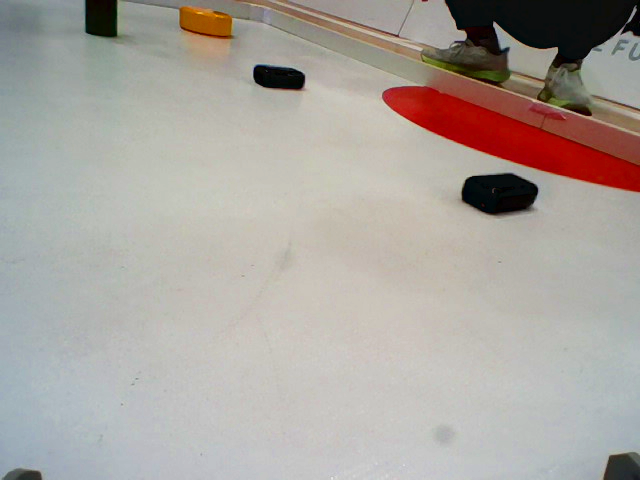black: (458, 167, 543, 220), (251, 59, 308, 92)
yellow: (176, 5, 236, 41)
zhuzi: (83, 1, 121, 50)
